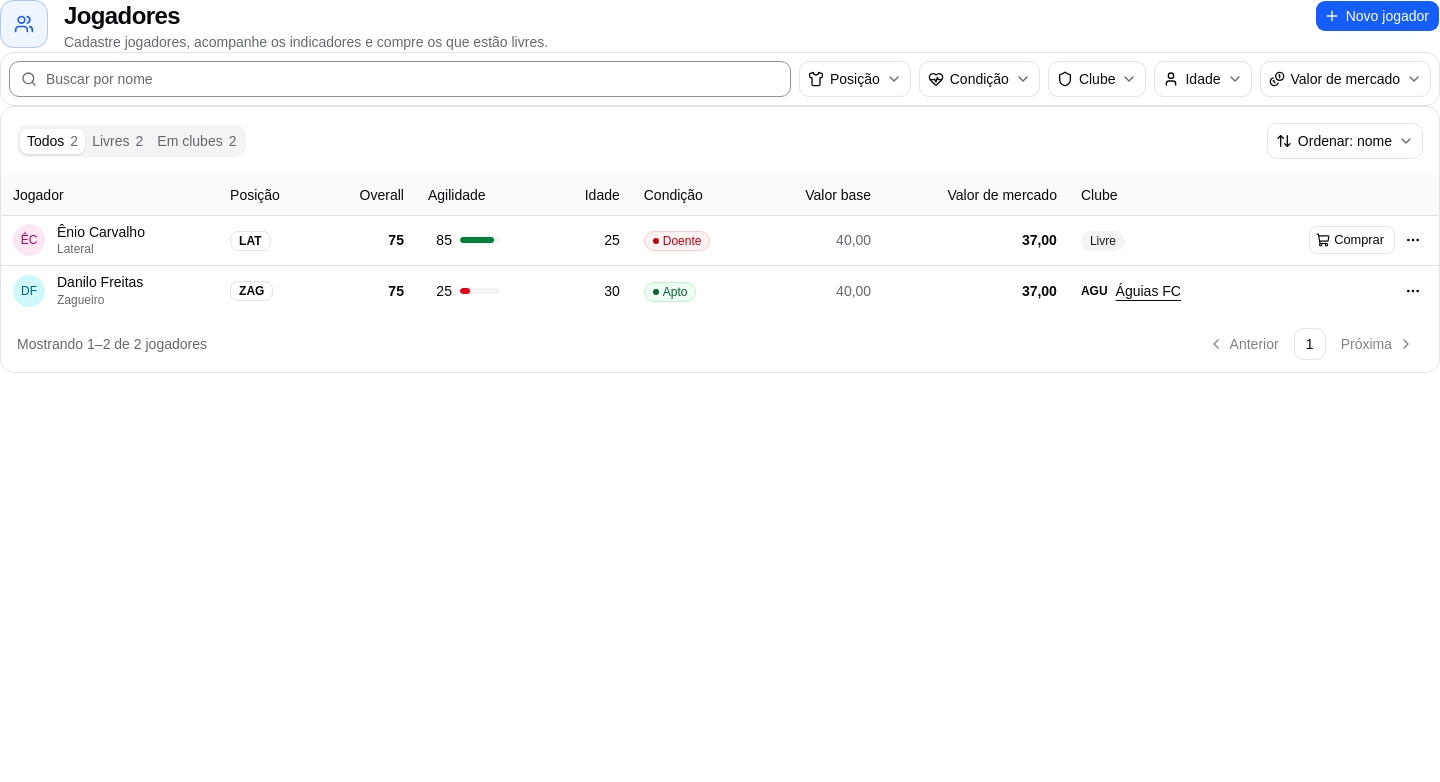
Test: detalhes do jogador › mostra os valores do GET /players/{id}
The image size is (1440, 782).
Click the button named "Ações de Danilo Freitas" at (1413, 291), box [1399, 277, 1427, 305]
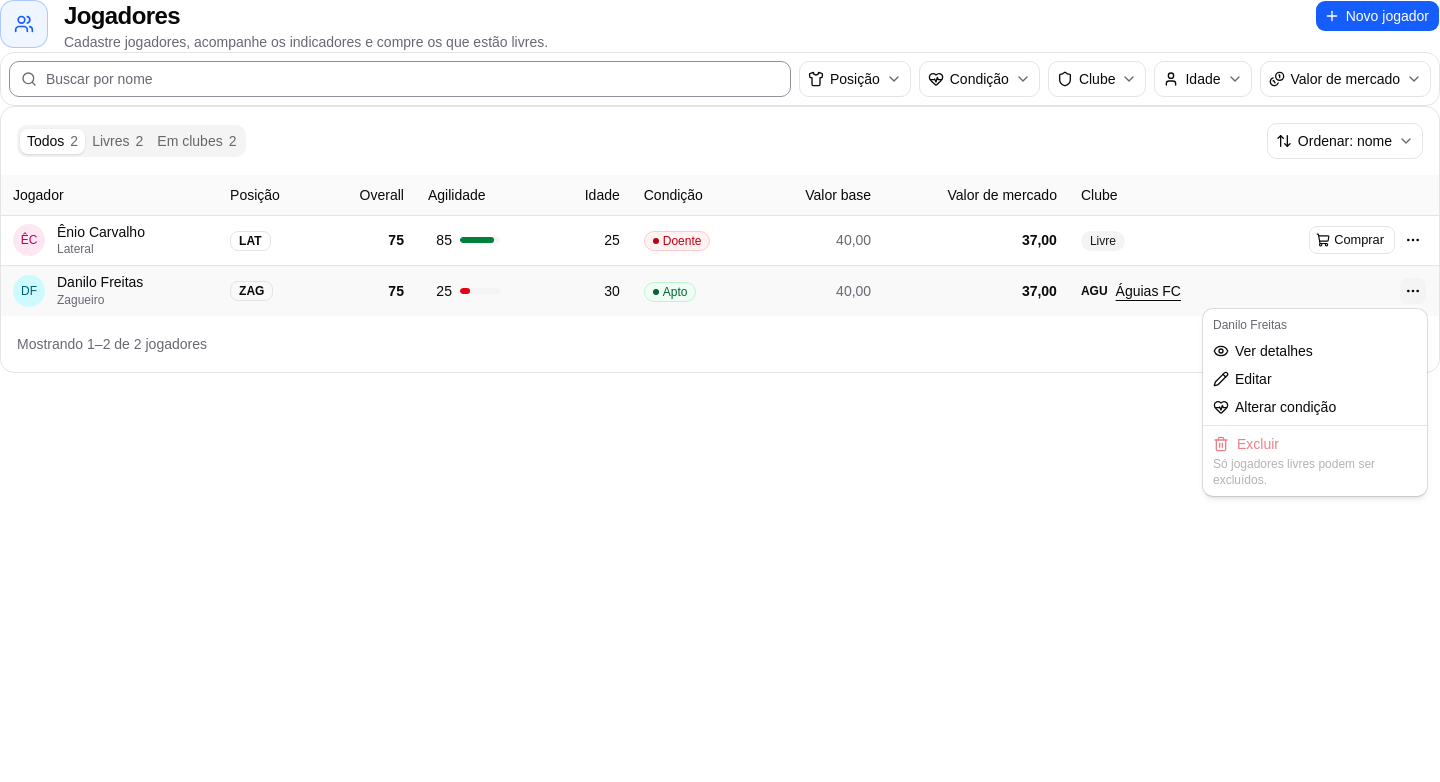
Click the menu item "Ver detalhes" at (1263, 351), box [1213, 343, 1313, 359]
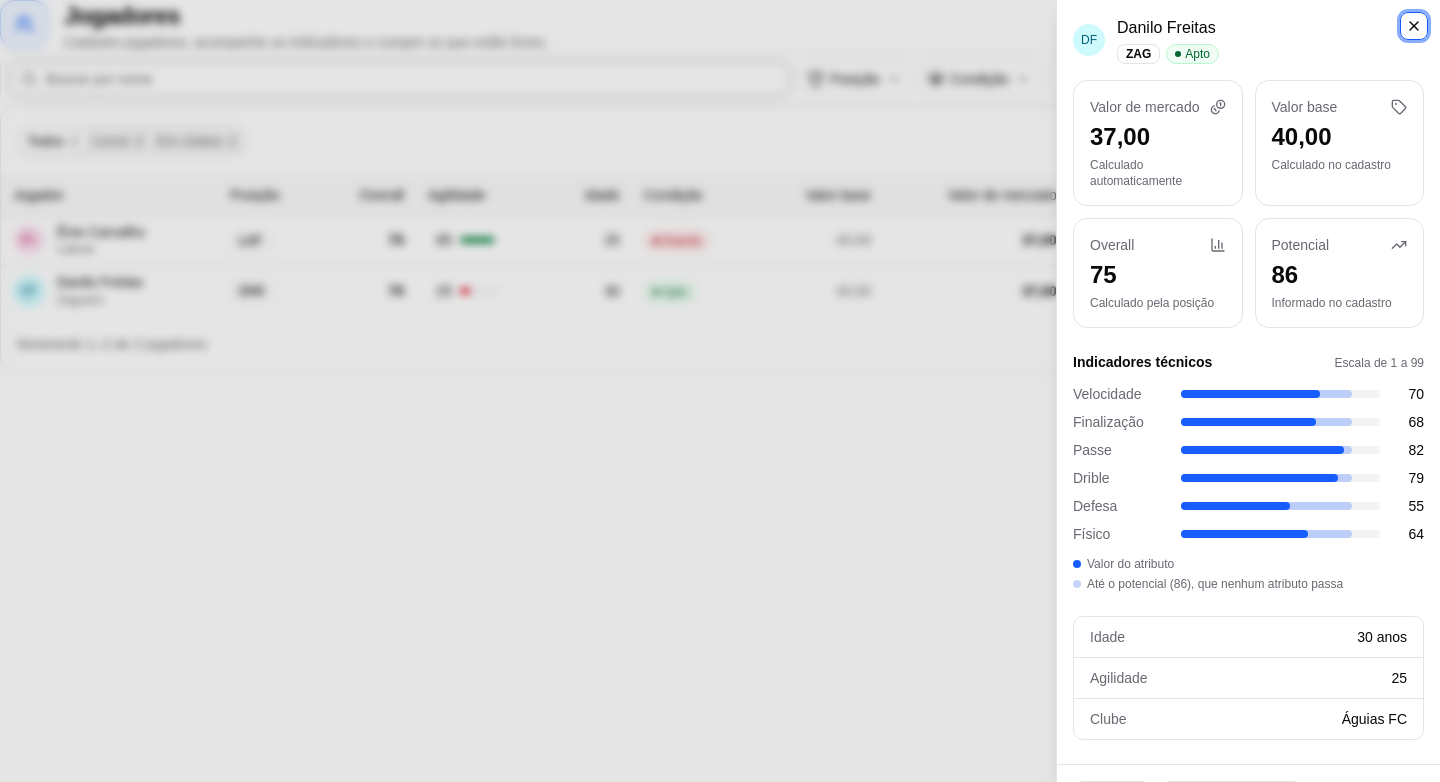
Expected: the text "Valor de mercado" is shown, [1090, 97, 1200, 117]
Expected: the text "Águias FC" is shown, [1342, 709, 1407, 729]
Expected: the text "30 anos" is shown, [1357, 627, 1407, 647]
